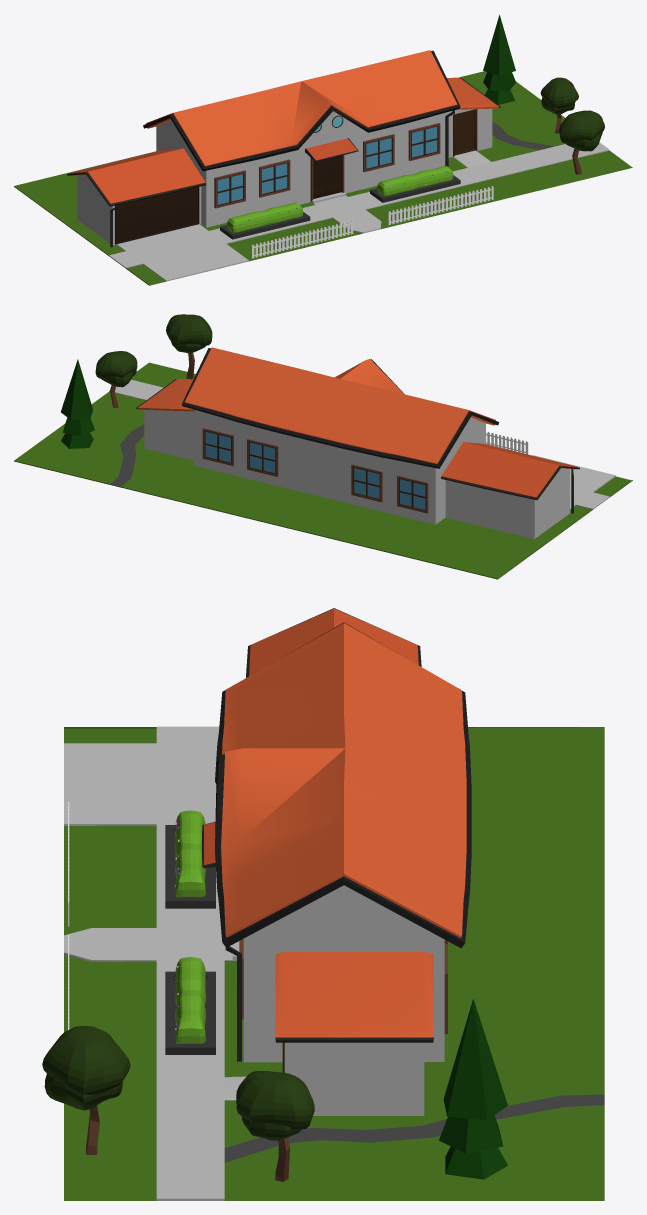
3 views of the same model, one above another, from view 1: azimuth 30°, elevation 25°; view 2: azimuth 150°, elevation 25°; view 3: azimuth 270°, elevation 25° (orthographic). The views are drawn at different scales.
Visible parts, largest first — view 1: House_0, Grass_15, Pine_22, Bush_11, BushL_13, Foliage.001_17, Windows_3, Windows.001_4, Windows.002_5, Windows.003_6, Foliage.003_20, FloverpotR_12 (+1 smaller); view 2: House_0, Grass_15, Pine_22, Foliage.001_17, Windows.004_7, Windows.007_10, Windows.005_8, Windows.006_9, Foliage.003_20; view 3: House_0, Grass_15, Pine_22, Foliage.001_17, Foliage.003_20, Bush_11, BushL_13, FloverpotR_12, FlowerpotL_14, Foliage.002_18.
Boxes of the visible parts, box(x1,y1,x2,y2) form: House_0: box(67, 50, 609, 281); Grass_15: box(14, 71, 632, 285); Pine_22: box(483, 15, 515, 104); Bush_11: box(377, 166, 453, 196); BushL_13: box(227, 202, 303, 233); Foliage.001_17: box(559, 110, 604, 143); Windows_3: box(408, 123, 440, 160); Windows.001_4: box(214, 170, 245, 208); Windows.002_5: box(259, 159, 290, 197); Windows.003_6: box(363, 134, 394, 172); Foliage.003_20: box(540, 77, 578, 108); FloverpotR_12: box(370, 175, 460, 202); House_0: box(109, 347, 615, 538); Grass_15: box(14, 362, 632, 579); Pine_22: box(61, 359, 94, 448); Foliage.001_17: box(166, 314, 212, 345); Windows.004_7: box(397, 475, 428, 513); Windows.007_10: box(351, 464, 382, 502); Windows.005_8: box(202, 428, 233, 465); Windows.006_9: box(247, 439, 278, 476); Foliage.003_20: box(95, 351, 137, 378); House_0: box(64, 608, 471, 1200); Grass_15: box(64, 727, 604, 1200); Pine_22: box(439, 999, 507, 1179); Foliage.001_17: box(42, 1026, 130, 1094); Foliage.003_20: box(236, 1071, 314, 1129); Bush_11: box(175, 957, 205, 1043); BushL_13: box(175, 810, 205, 897); FloverpotR_12: box(165, 971, 215, 1054); FlowerpotL_14: box(165, 825, 215, 908); Foliage.002_18: box(44, 1073, 122, 1110).
Bounding box in the file's own units: 11.12 × 2.17 × 5.6.
1 material, 1 textured.
